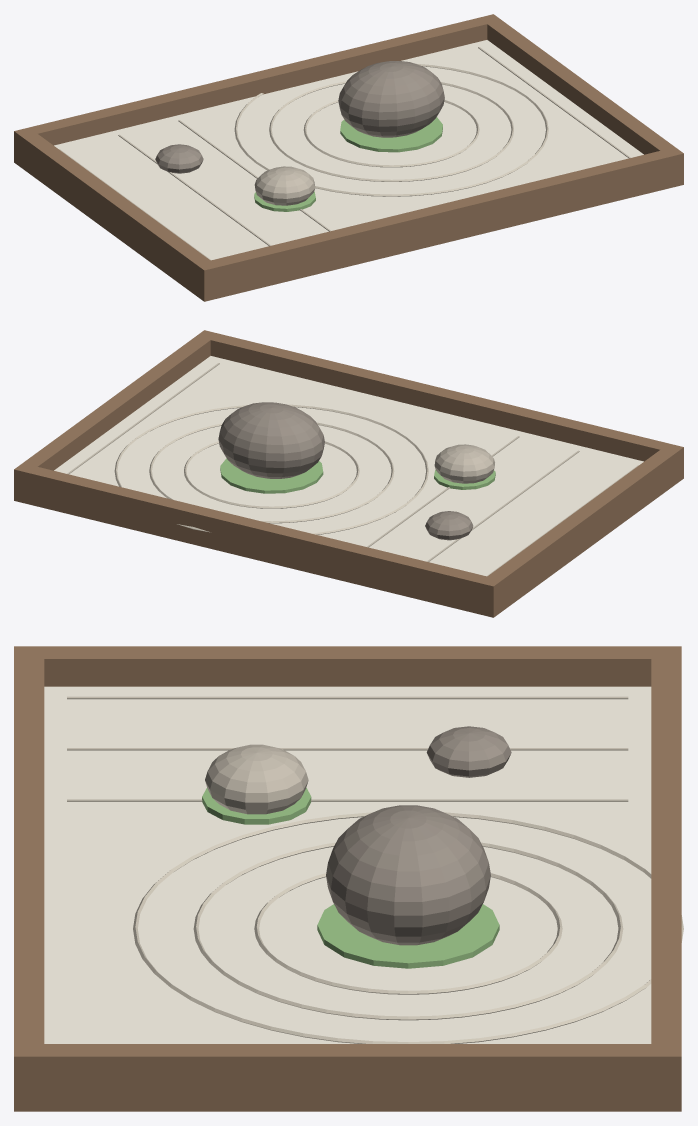
File: zen_garden.glb
3 views of the same model, one above another, from view 1: azimuth 30°, elevation 25°; view 2: azimuth 150°, elevation 25°; view 3: azimuth 270°, elevation 25° (orthographic). The views are drawn at different scales.
Parts seen in each view (by area): view 1: zen_garden; view 2: zen_garden; view 3: zen_garden.
Boxes of the visible parts, <box> form: zen_garden: <box>14,14,683,301</box>; zen_garden: <box>14,330,683,617</box>; zen_garden: <box>14,646,683,1111</box>.
Size of the model in its own units: 3.2 by 0.508 by 2.21.
